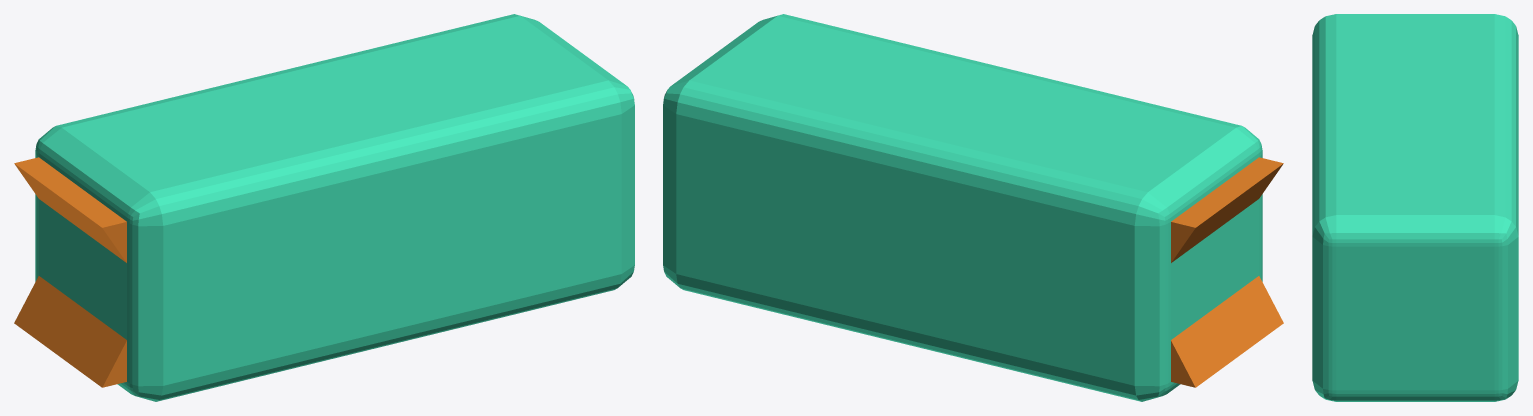
File: PingBall_Bars.fbx
The picture shows the model from 3 angles, left to right: view 1: azimuth 30°, elevation 25°; view 2: azimuth 150°, elevation 25°; view 3: azimuth 270°, elevation 25°; orthographic projection. The views are drawn at different scales.
Parts seen in each view (by area): view 1: BouncyBar, DashBar; view 2: BouncyBar, DashBar; view 3: BouncyBar.
Boxes of the visible parts, x1,y1,x2,y2 form: BouncyBar: (35, 14, 634, 401); DashBar: (14, 157, 126, 387); BouncyBar: (663, 14, 1262, 401); DashBar: (1171, 157, 1283, 387); BouncyBar: (1312, 14, 1518, 401).
Size of the model in its own units: 346 by 130 by 130.
